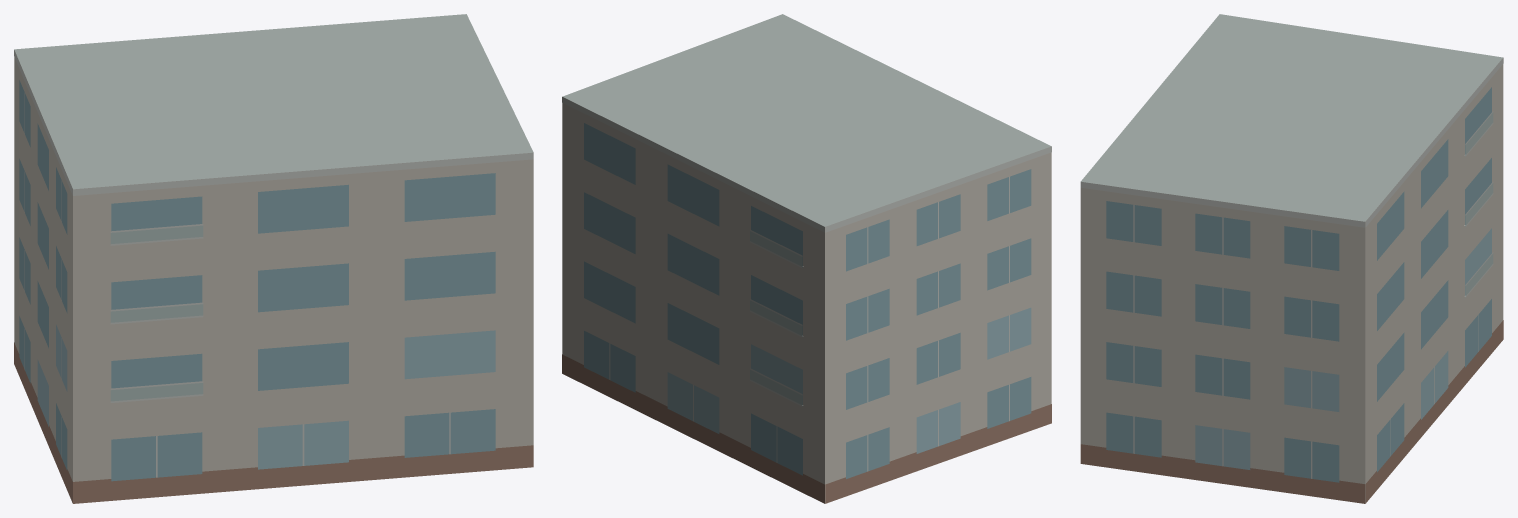
Rendered from survey-upis-32604150.glb.
3 views of the same model, side by side, from view 1: azimuth 30°, elevation 25°; view 2: azimuth 150°, elevation 25°; view 3: azimuth 270°, elevation 25° (orthographic). The views are drawn at different scales.
Visible parts, largest first — view 1: survey-upis-32604150.tmp; view 2: survey-upis-32604150.tmp; view 3: survey-upis-32604150.tmp.
Part boxes in pixels (<box>): survey-upis-32604150.tmp: <box>14,14,533,503</box>; survey-upis-32604150.tmp: <box>562,14,1051,503</box>; survey-upis-32604150.tmp: <box>1080,14,1503,503</box>.
Size of the model in its own units: 18.02 by 11.4 by 15.5.
